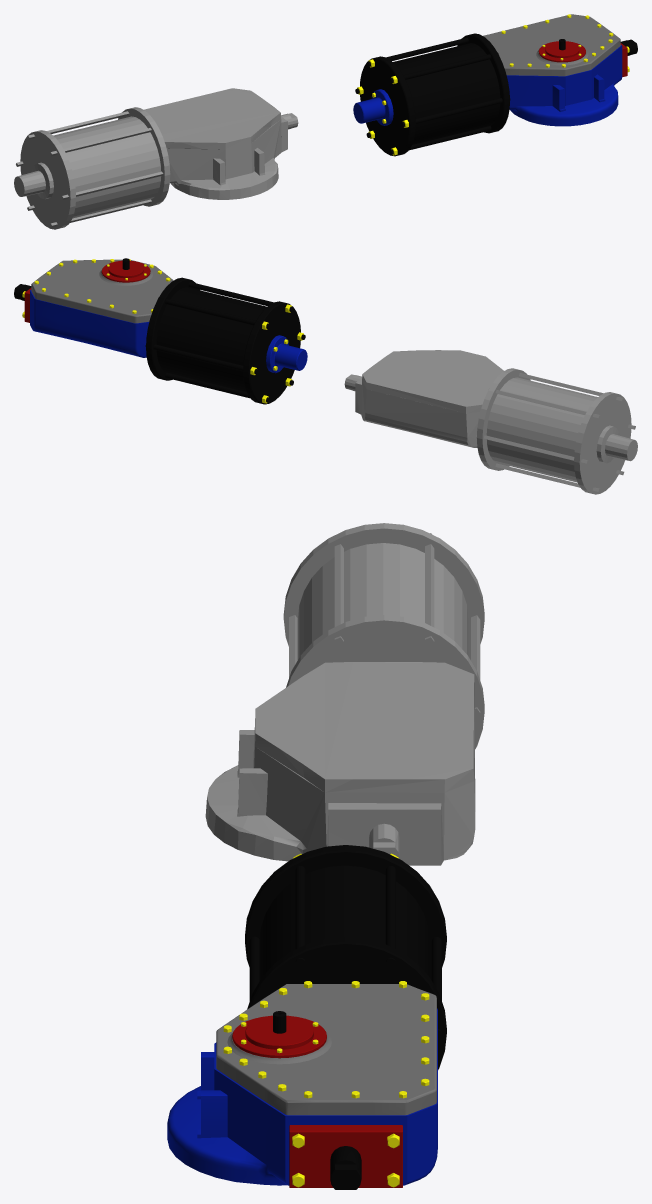
3 views of the same model, one above another, from view 1: azimuth 30°, elevation 25°; view 2: azimuth 150°, elevation 25°; view 3: azimuth 270°, elevation 25° (orthographic). The views are drawn at different scales.
Visible parts, largest first — view 1: MSBR_Body, MSBR_Body001_Outline; view 2: MSBR_Body, MSBR_Body001_Outline; view 3: MSBR_Body, MSBR_Body001_Outline.
Part boxes in pixels (x1=…): MSBR_Body: x1=353, y1=14, x2=637, y2=156; MSBR_Body001_Outline: x1=14, y1=88, x2=298, y2=229; MSBR_Body: x1=14, y1=258, x2=307, y2=404; MSBR_Body001_Outline: x1=344, y1=350, x2=637, y2=494; MSBR_Body: x1=167, y1=845, x2=446, y2=1189; MSBR_Body001_Outline: x1=205, y1=523, x2=484, y2=865.
Bounding box in the file's own units: 221 × 31.94 × 50.19.
